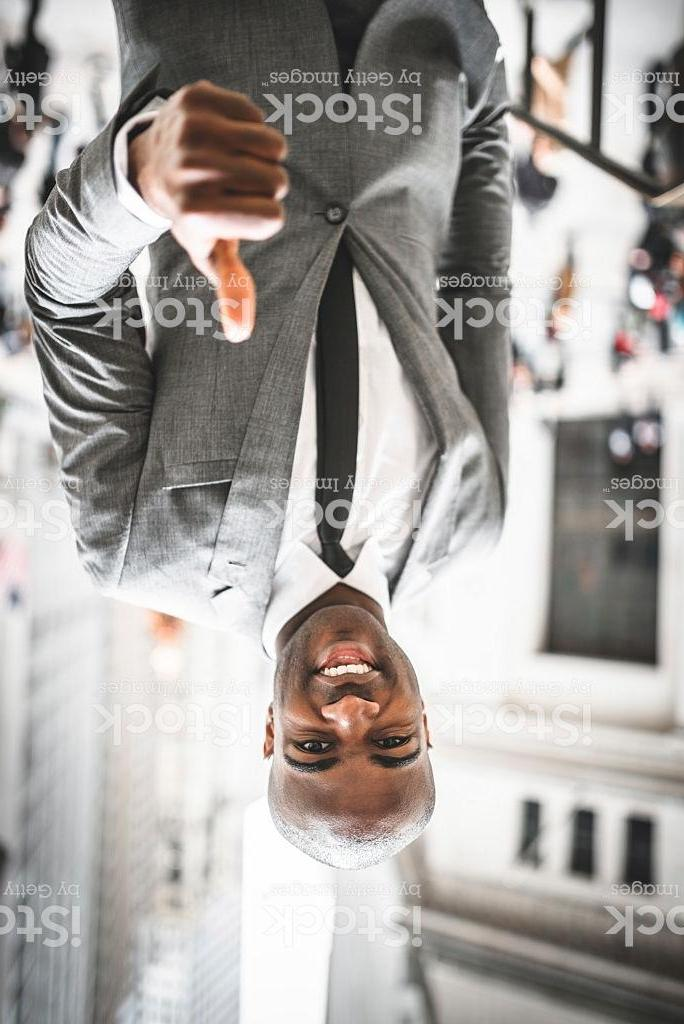thumbsdown: (156, 70, 297, 344)
